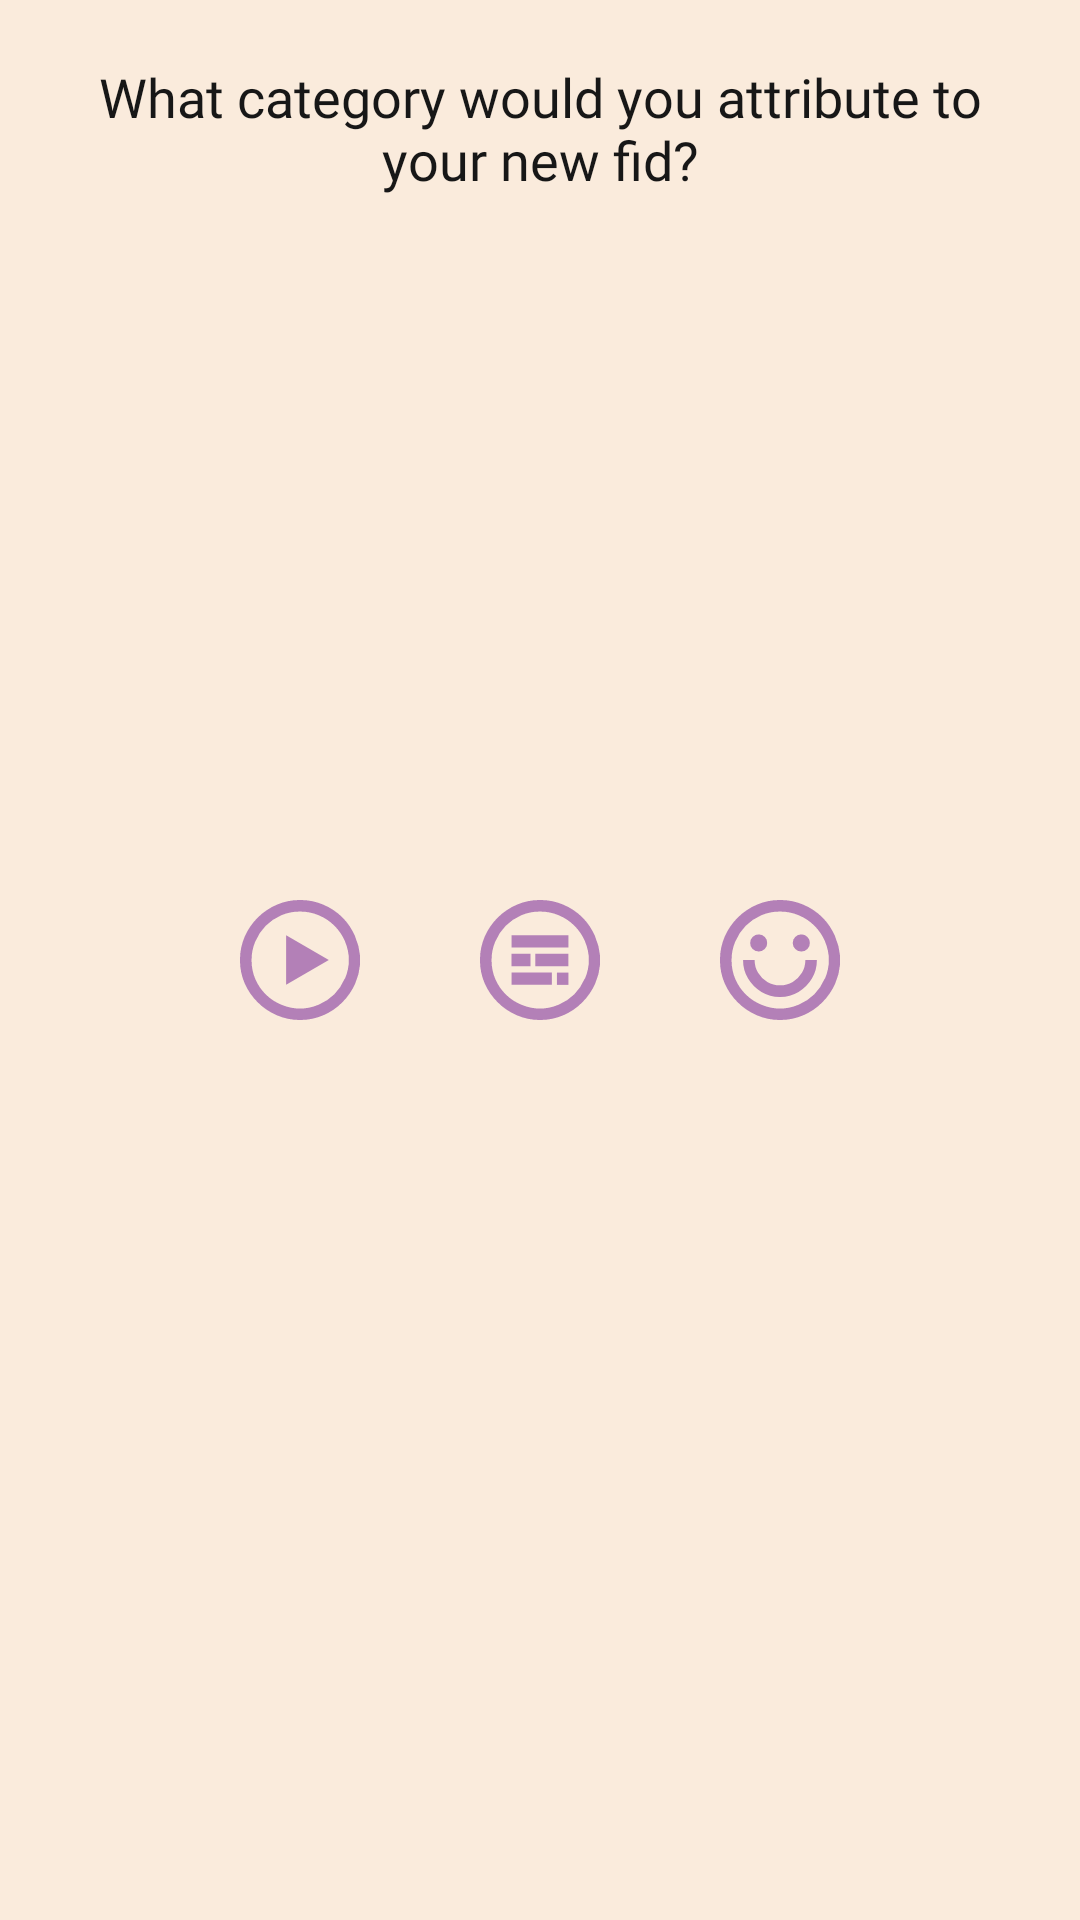

Where icons sit on this 1080 x 1920 app screen, as (x1, y1, x2, y2):
article: (480, 900, 600, 1020)
smiley: (720, 900, 840, 1020)
video: (240, 900, 360, 1020)
